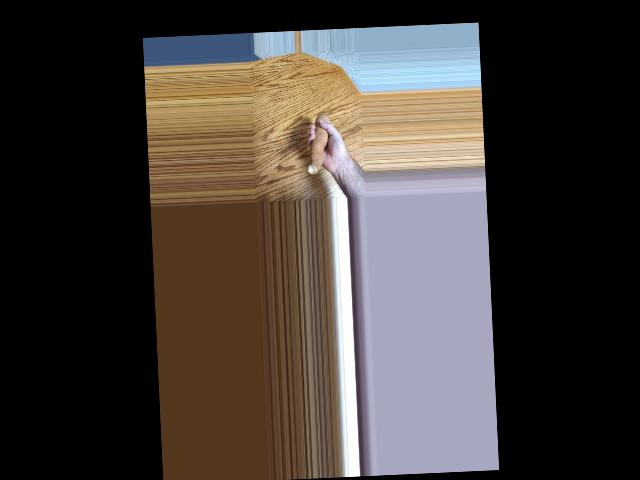sweet_potato: (307, 117, 335, 179)
